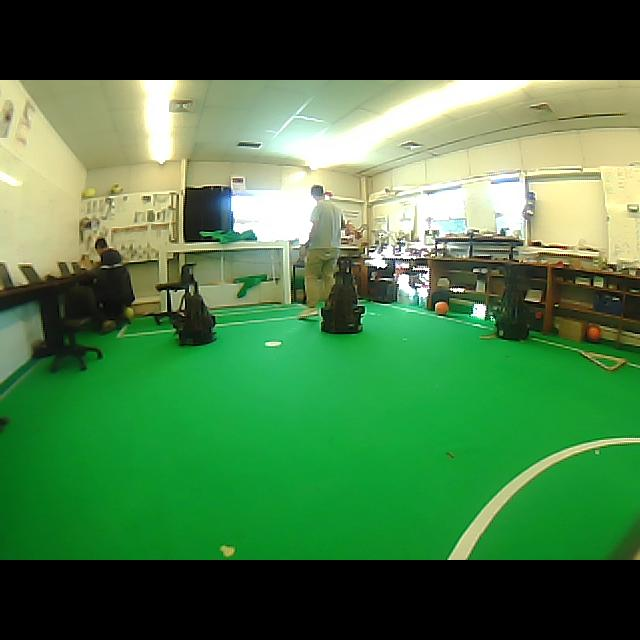ball: (586, 325, 601, 342), (435, 301, 448, 315), (124, 306, 134, 323), (82, 188, 96, 198), (110, 184, 122, 194)
goal: (283, 242, 291, 303)
robot: (173, 264, 215, 345), (321, 257, 364, 333), (496, 286, 529, 340)
